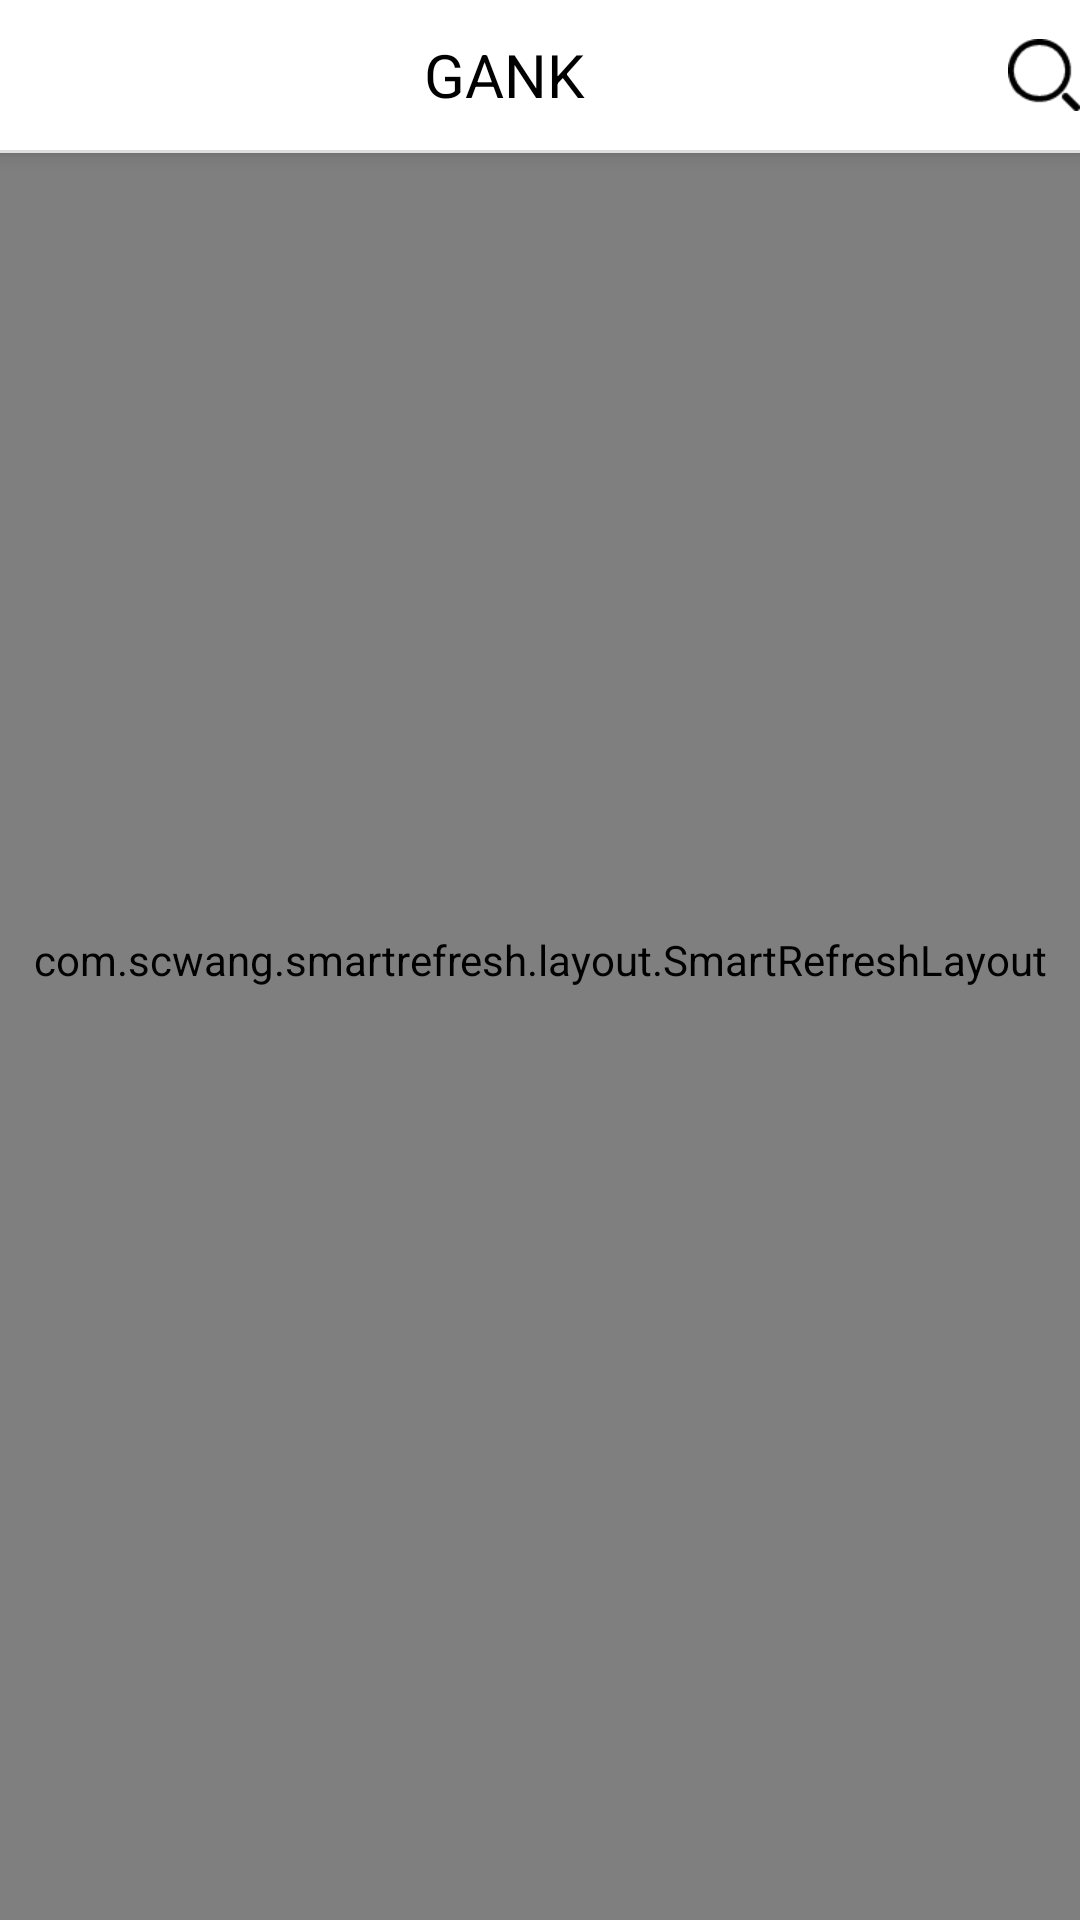

Icons on this 1080px×1920px Android screen, each with the point to tap as (x,y):
search: (1044,75)
